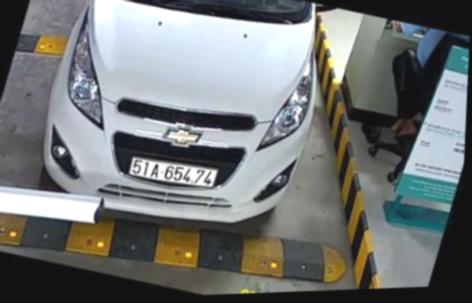License_Plate: (124, 152, 222, 201)
